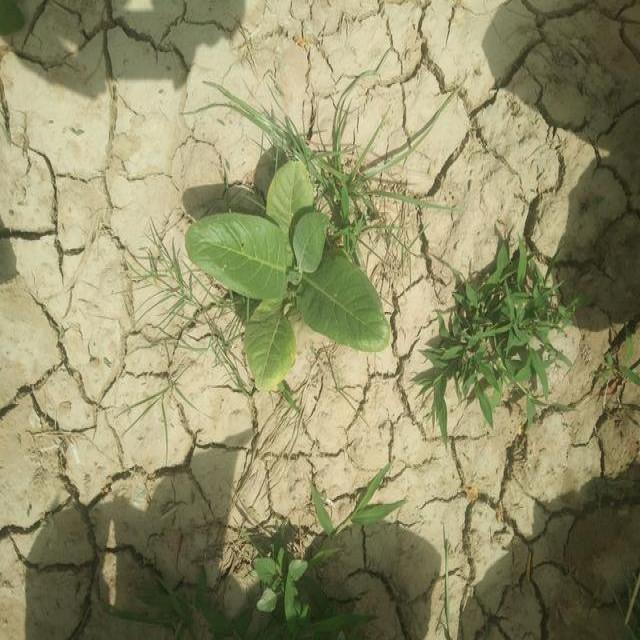crop: (194, 159, 391, 375)
